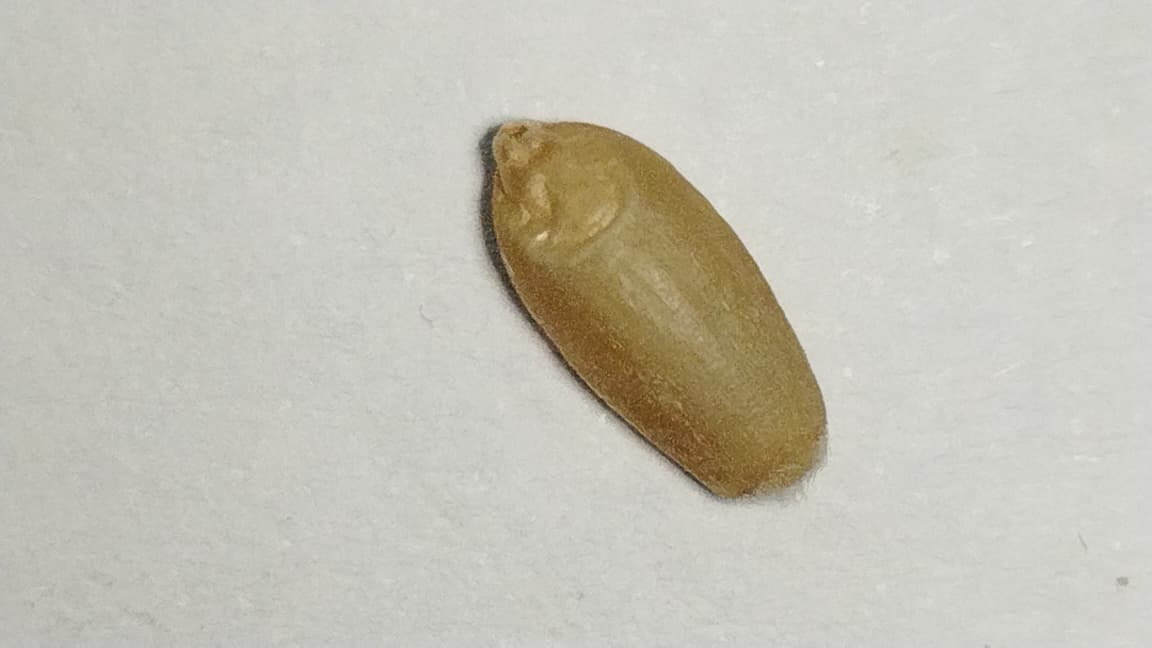healthy: (492, 120, 826, 497)
